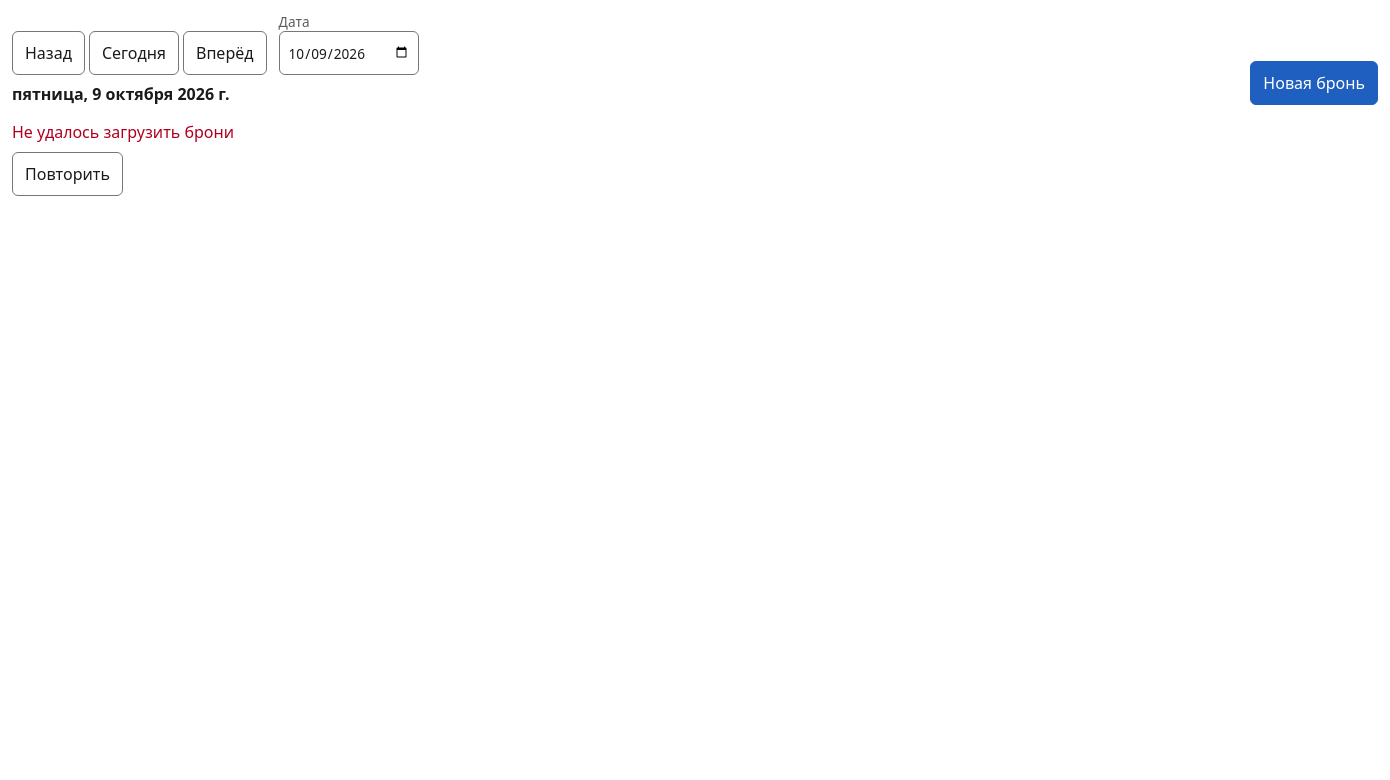
Test: DayView: состояния › U3: ошибка загрузки (500) — role=alert «Не удалось загрузить брони», «Повторить» повторяет list и показывает брони
Expected: the message reads "Не удалось загрузить брони", x1=12 y1=121 x2=234 y2=143
Click the button "Повторить".
click(68, 174)  # box x1=12 y1=152 x2=123 y2=196
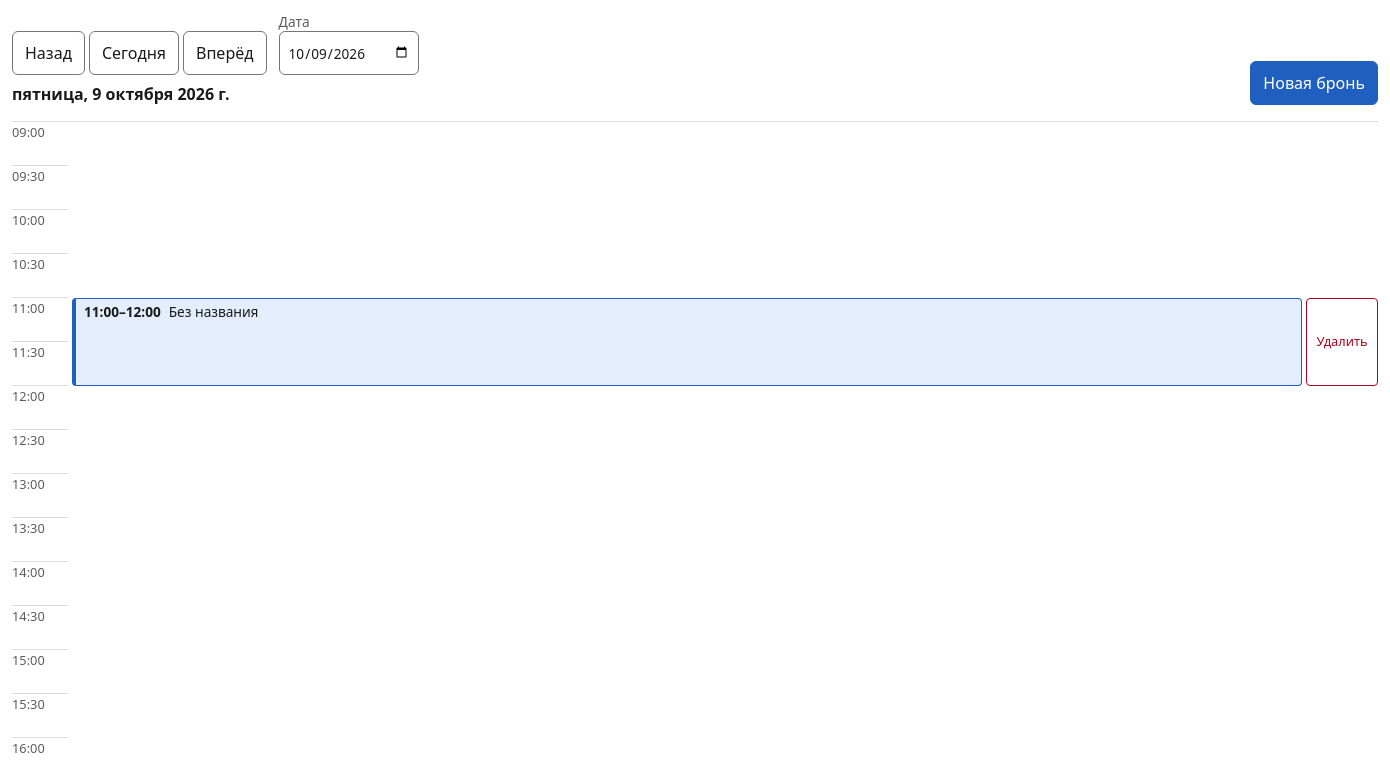
Now the text "11:00–12:00" is shown, box x1=84 y1=302 x2=161 y2=321
Now the message "Не удалось загрузить брони" is gone
